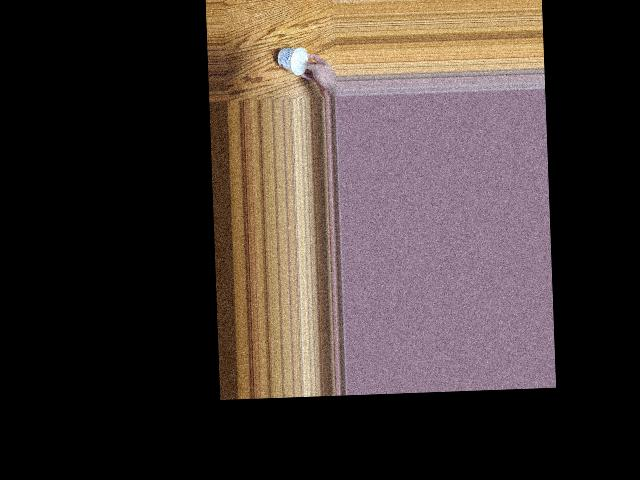cotage: (276, 47, 311, 80)
